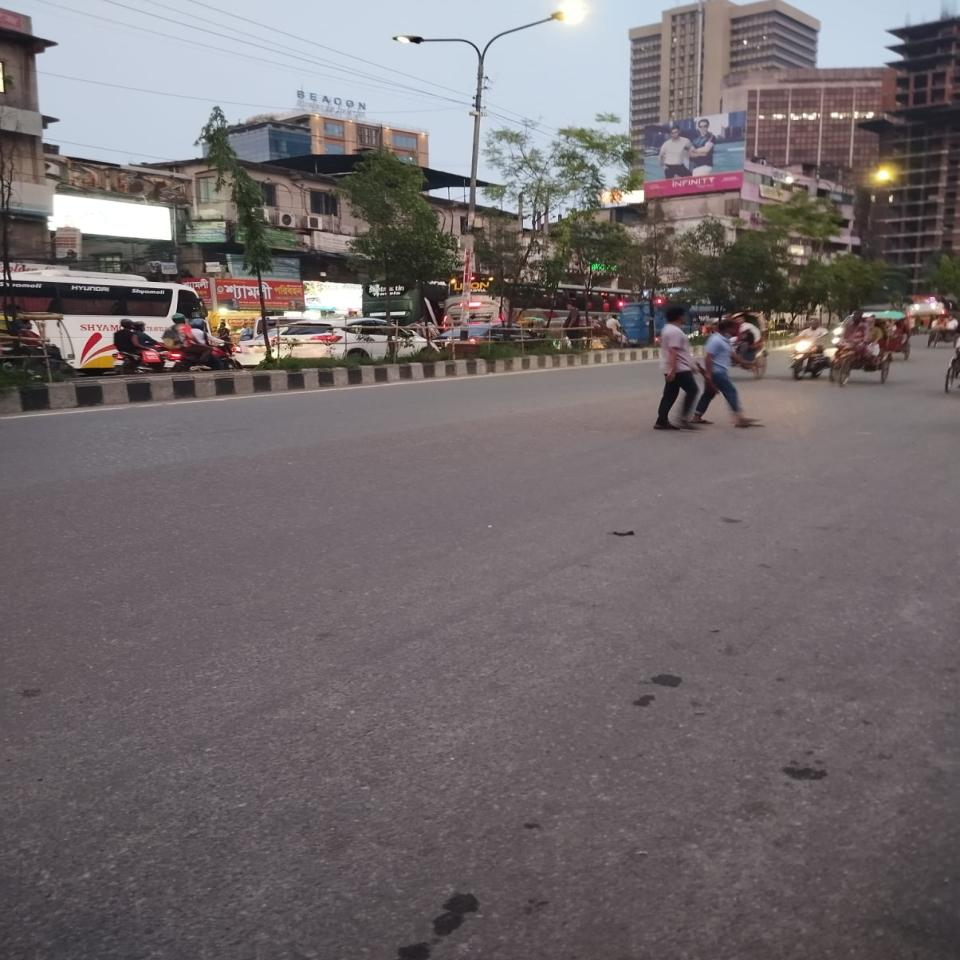person: (693, 320, 757, 428), (654, 305, 699, 431)
